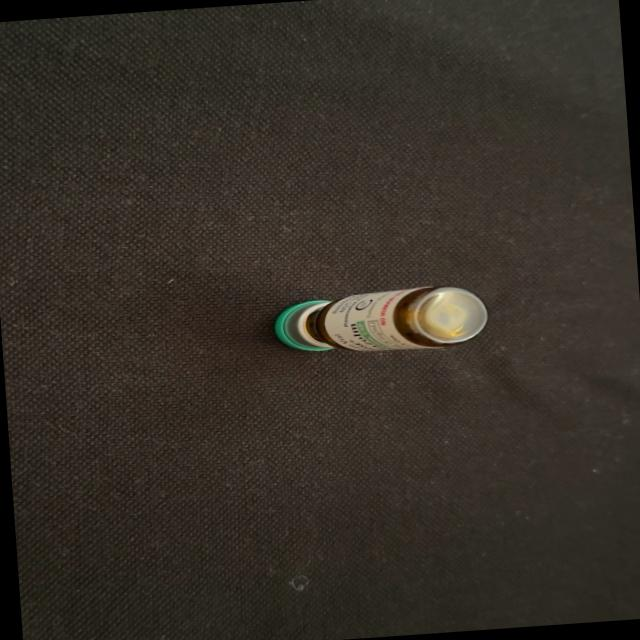midazolm: (274, 284, 486, 358)
